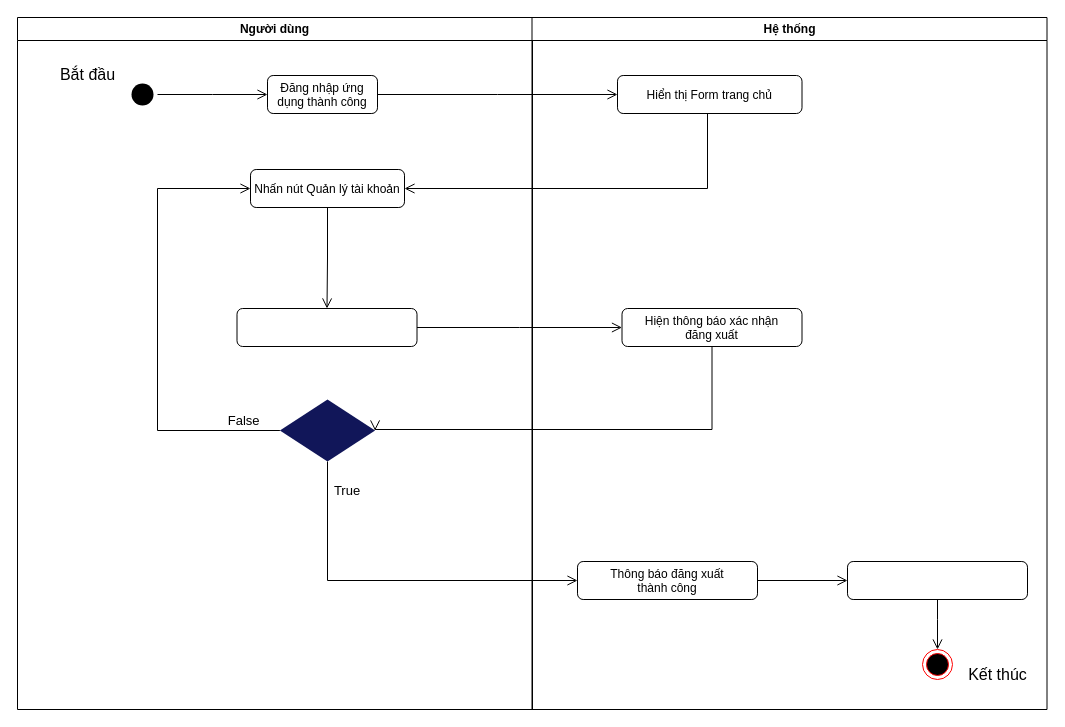
Image size: 1065x727. Some labels were removed from this diagram. The shapes that lost their labels are listed below. From the top down, each one's centre as x and y in pixels, then its label:
(x=326, y=327): Nhấn nút đăng xuất
(x=327, y=430): Xác nhận
(x=937, y=580): Trở về form đăng nhập
